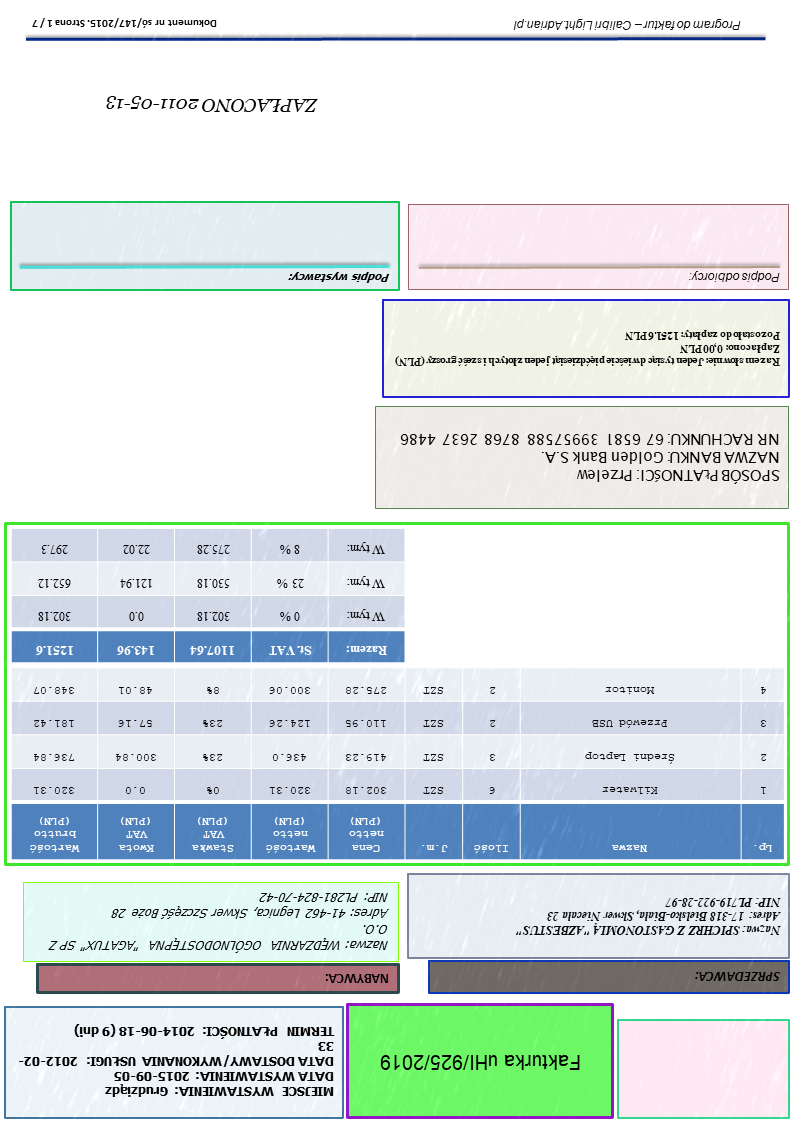Table: (11, 666, 786, 862), (10, 526, 406, 664)
TextBox: (15, 1022, 337, 1101), (45, 888, 392, 955), (398, 428, 783, 486), (393, 329, 783, 371), (513, 894, 783, 940), (105, 91, 320, 118), (377, 1050, 584, 1074), (511, 15, 743, 36), (31, 15, 219, 32), (287, 267, 392, 288), (688, 268, 783, 287), (692, 968, 784, 987), (324, 969, 392, 988)
